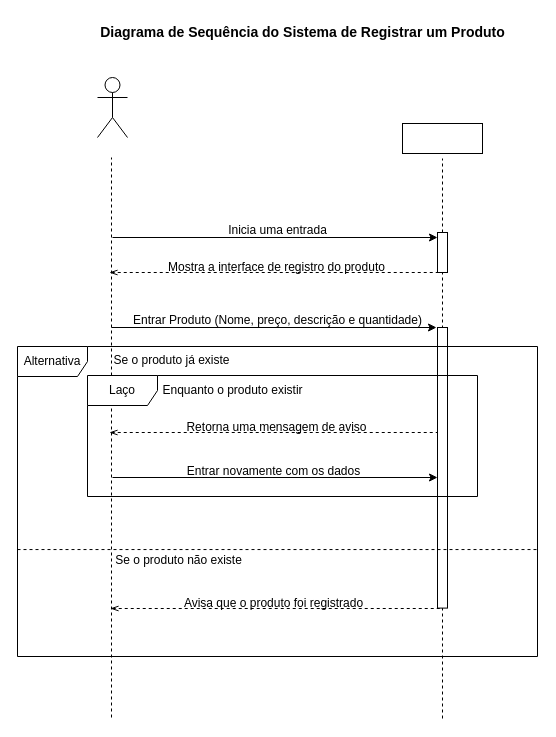
The diagram is 556 pixels wide and 737 high, and some of its shapes have lost their labels. The centre of each missing label's shape, as x and y in pixels:
"Sistema" belongs at point 442,138.
"Usuário" belongs at point 112,107.
